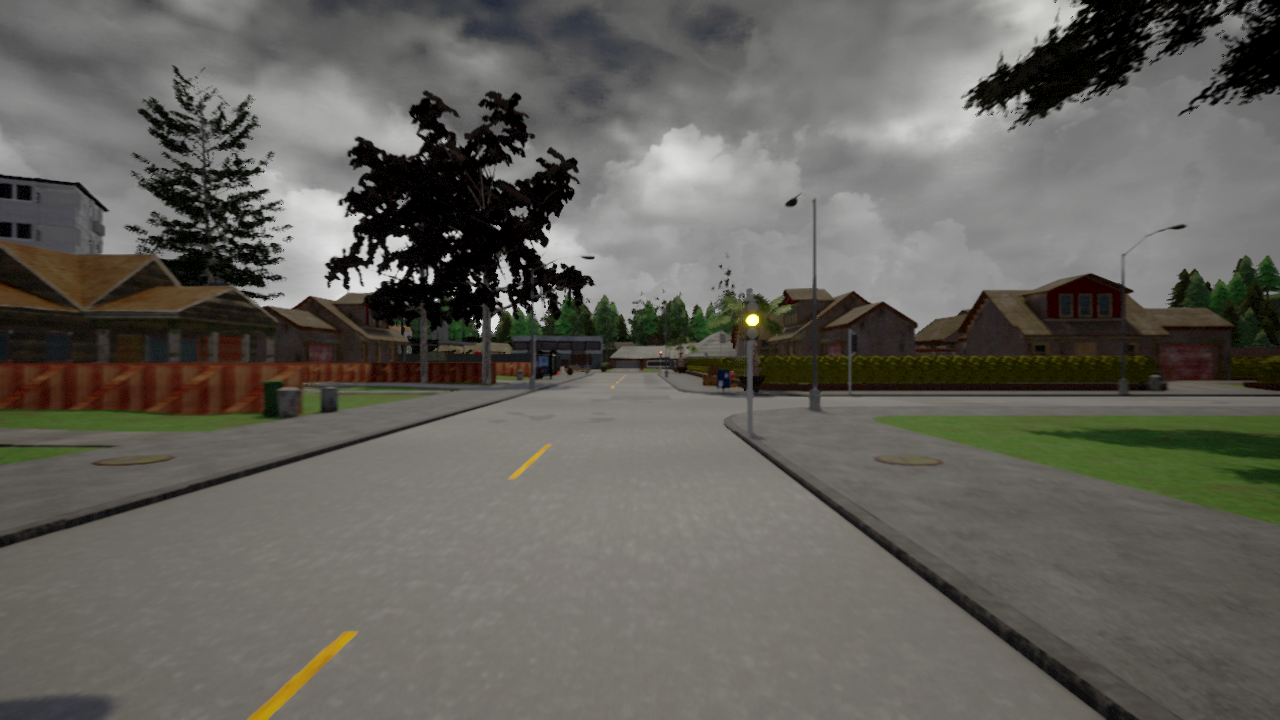yellow: (742, 301, 761, 339)
